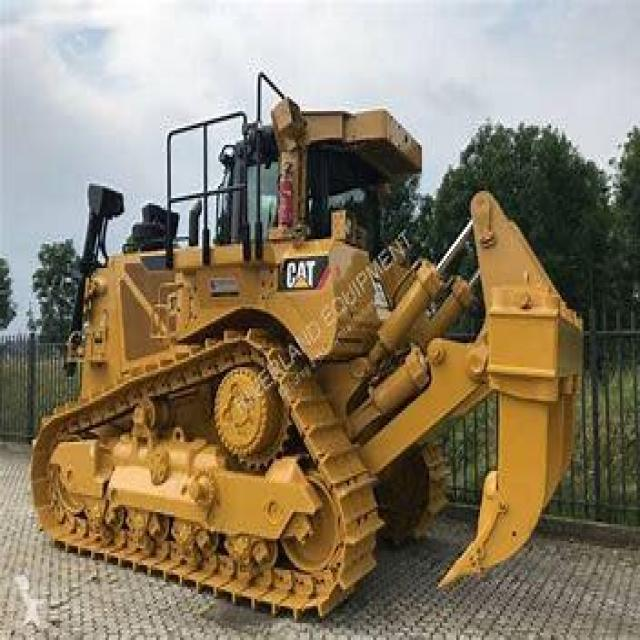Bulldozer: (20, 80, 584, 620)
